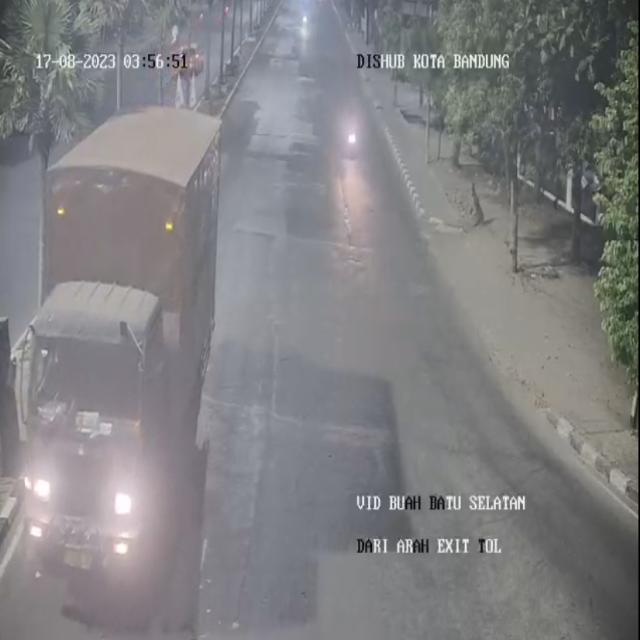truck: (7, 99, 234, 606)
